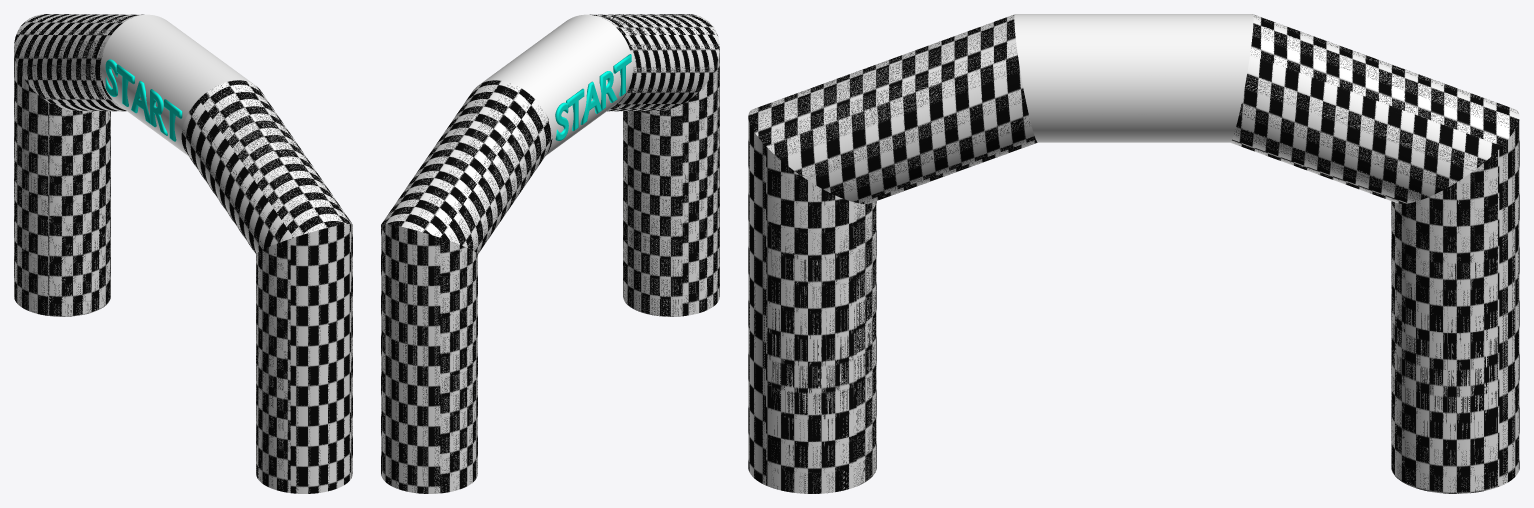
Rendered from first_start2.dae.
The picture shows the model from 3 angles, left to right: view 1: azimuth 30°, elevation 25°; view 2: azimuth 150°, elevation 25°; view 3: azimuth 270°, elevation 25°; orthographic projection. The views are drawn at different scales.
Parts seen in each view (by area): view 1: SketchUp, SketchUp.002, Text; view 2: SketchUp, SketchUp.002, Text; view 3: SketchUp, SketchUp.002.
Part boxes in pixels (x1,y1,x2,y2): SketchUp: (14,14,352,493); SketchUp.002: (101,14,252,155); Text: (105,59,182,141); SketchUp: (381,14,719,493); SketchUp.002: (481,14,632,155); Text: (555,54,631,140); SketchUp: (748,14,1519,493); SketchUp.002: (1014,14,1253,142).
Bounding box in the file's own units: 0.304 × 1.8 × 1.15.
3 materials, 1 textured.
